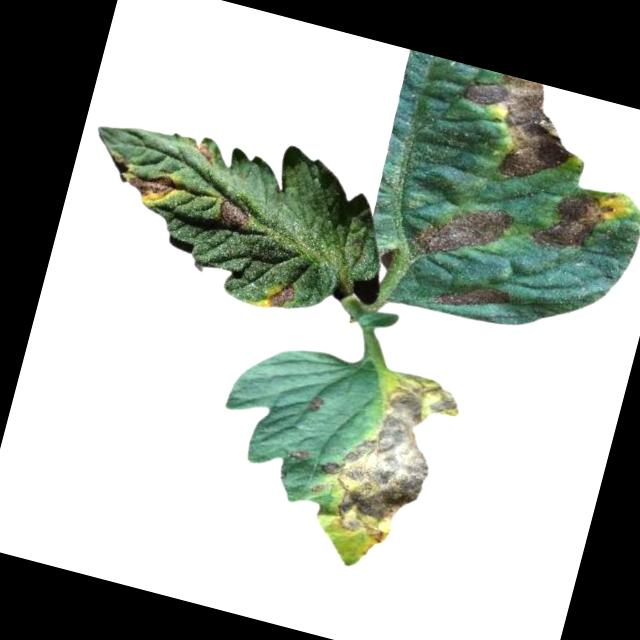Early_blight: (308, 358, 466, 555), (447, 66, 591, 191), (412, 188, 518, 275), (528, 176, 621, 262), (429, 268, 518, 324), (126, 163, 182, 210), (215, 194, 252, 229), (265, 276, 297, 311), (191, 137, 220, 168), (303, 391, 325, 415)
